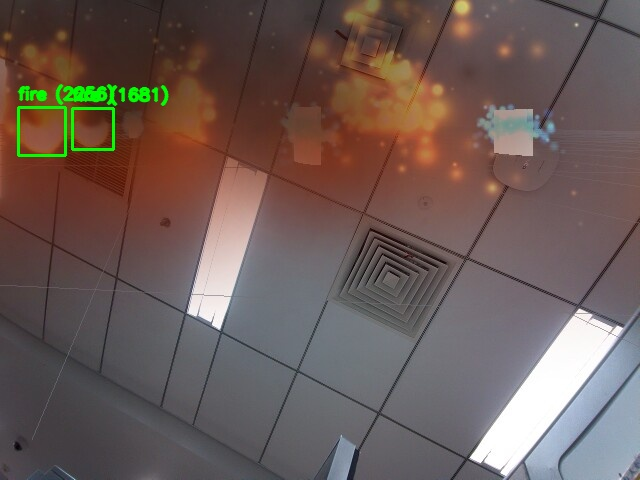fire: (18, 107, 65, 155), (72, 108, 113, 149)
